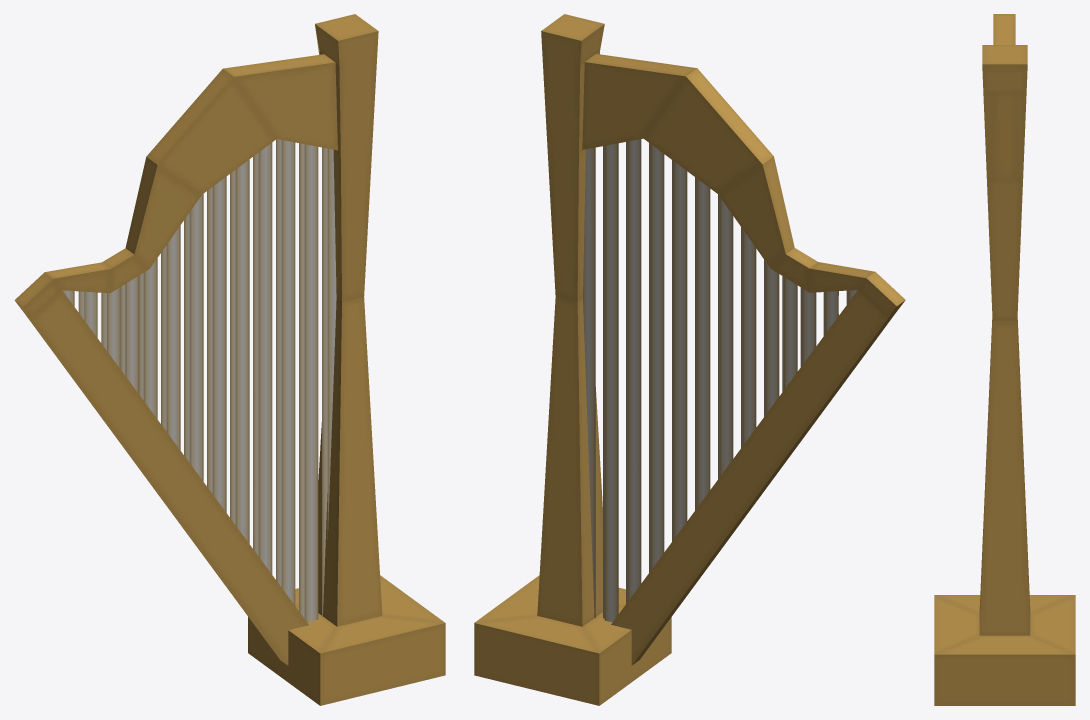
The model's file is heaven_tree_3.fbx.
3 renders of one model, left to right at view 1: azimuth 30°, elevation 25°; view 2: azimuth 150°, elevation 25°; view 3: azimuth 270°, elevation 25°, orthographic. The views are drawn at different scales.
Visible parts, largest first — view 1: heaven_tree_3; view 2: heaven_tree_3; view 3: heaven_tree_3.
Part boxes in pixels (bbox=[...]): heaven_tree_3: bbox=[14, 14, 445, 705]; heaven_tree_3: bbox=[474, 14, 905, 705]; heaven_tree_3: bbox=[934, 14, 1075, 705].
Bounding box in the file's own units: 3.93 × 1.26 × 6.12.
